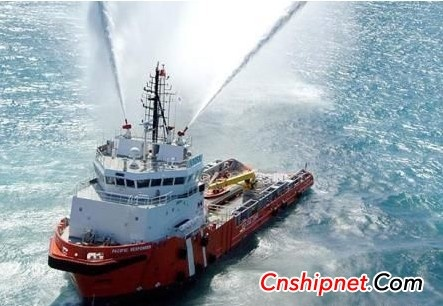otherboat: (37, 65, 314, 296)
